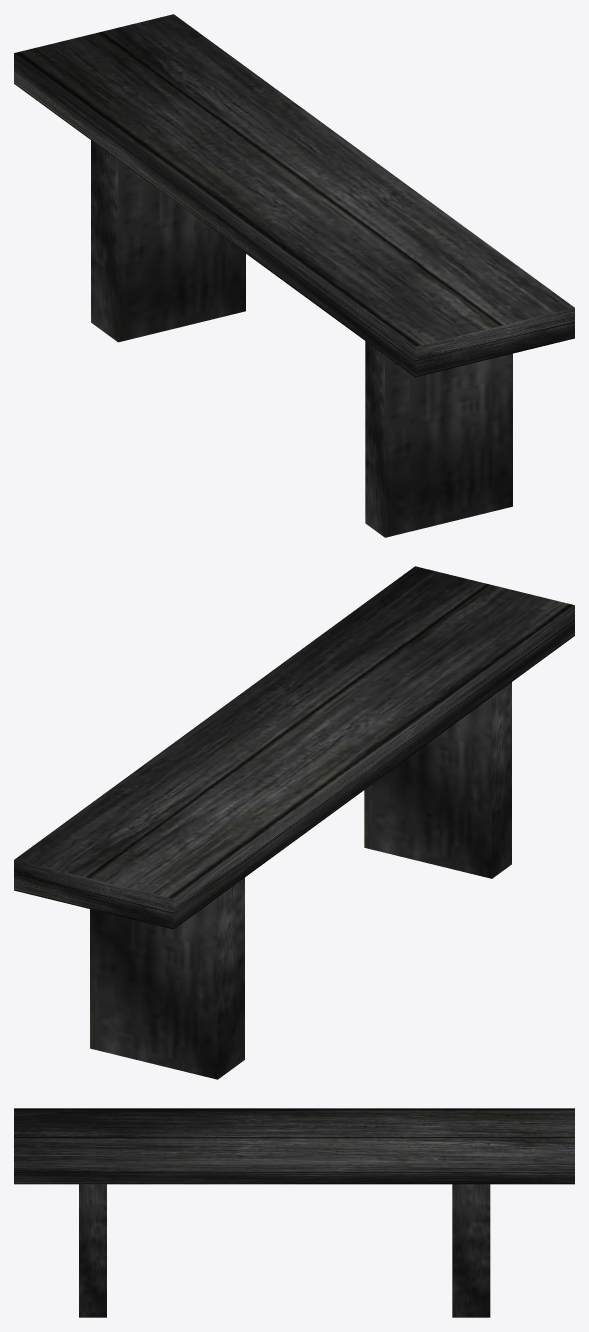
File: bench-01.obj
The picture shows the model from 3 angles, top to bottom: view 1: azimuth 30°, elevation 25°; view 2: azimuth 150°, elevation 25°; view 3: azimuth 270°, elevation 25°; orthographic projection. The views are drawn at different scales.
Bounding box in the file's own units: 0.4011 × 0.5495 × 1.74.
Materials: 1 (1 with a texture image).
